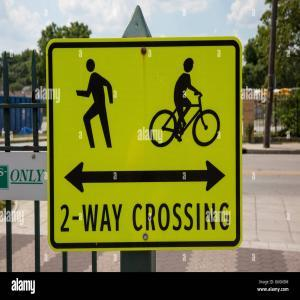CYCLE CROSSING: (49, 40, 241, 248)
